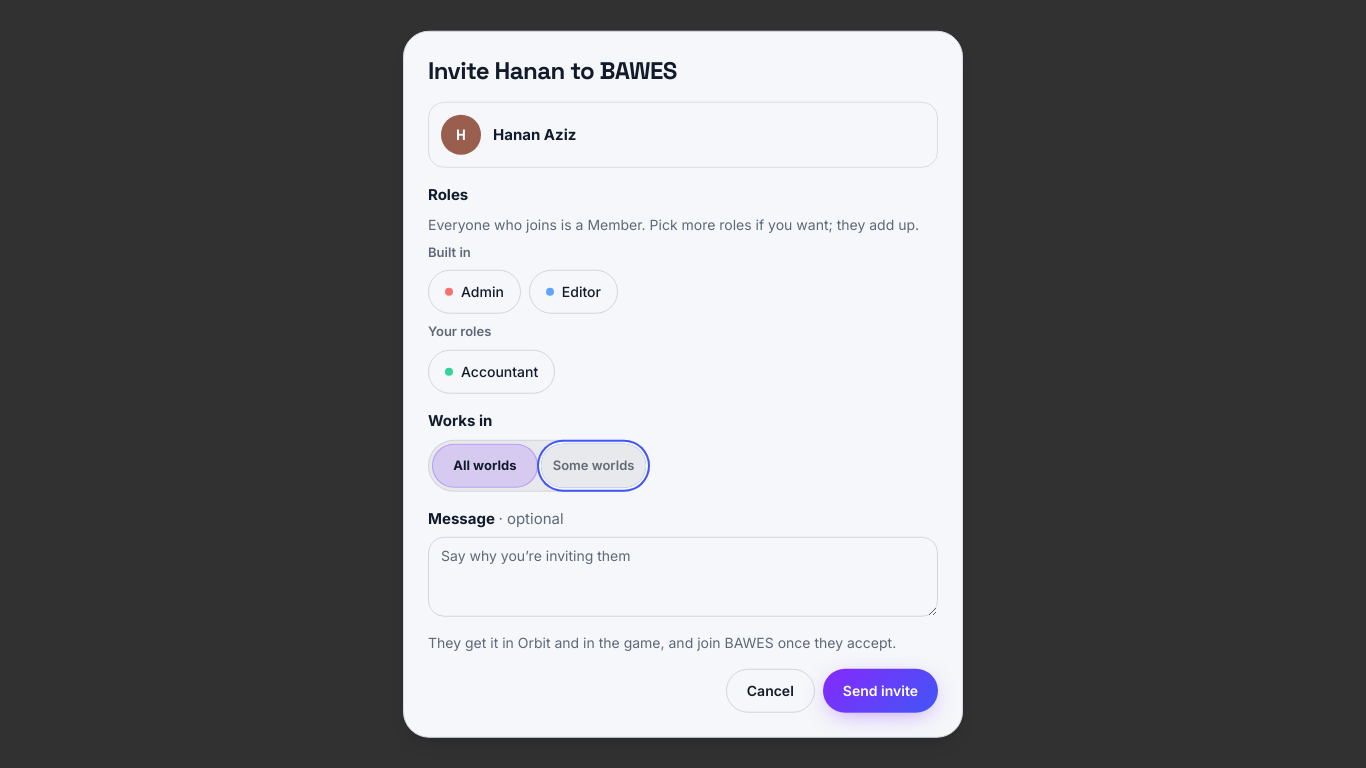
Test: says what went wrong and stays open when the invite is refused
This screenshot has width=1366, height=768.
Click the button "Send invite" at point(880, 690), box [823, 668, 938, 712]
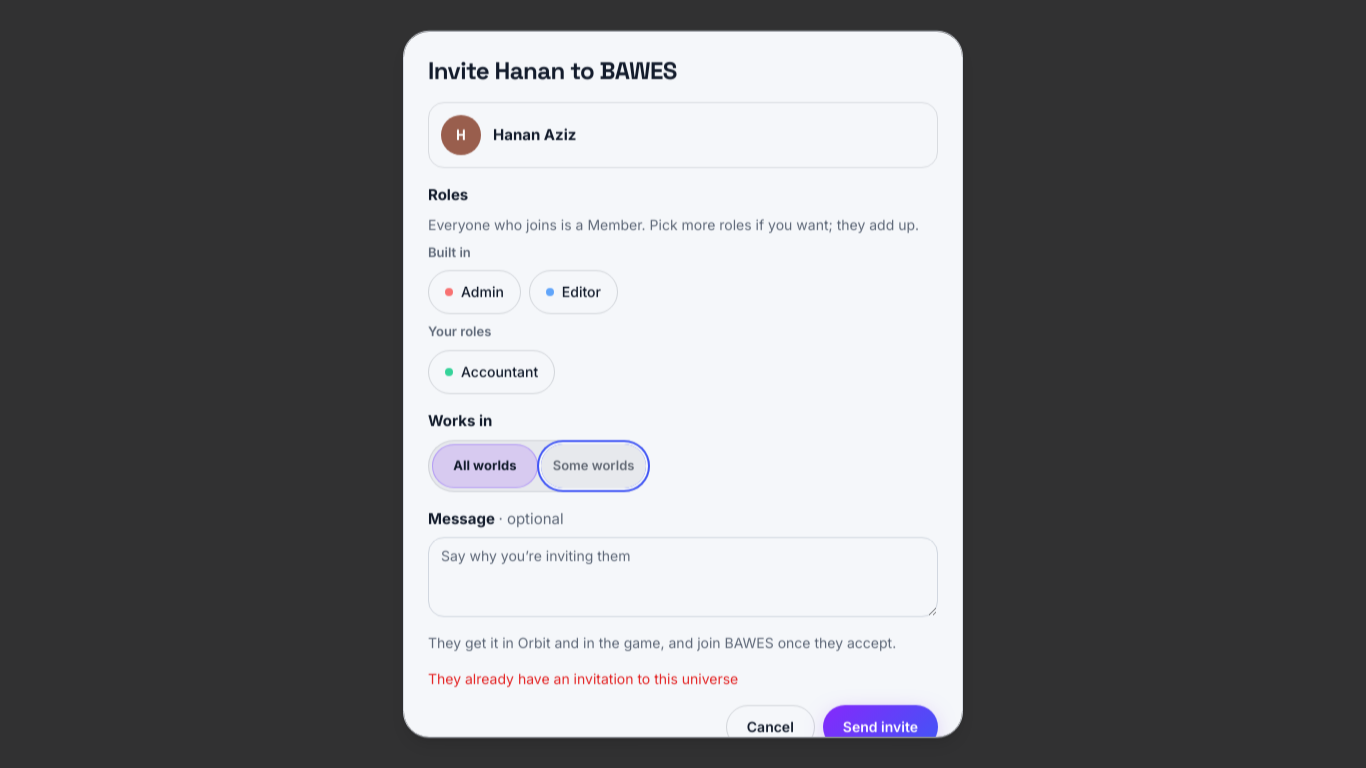
Check: the message reads "They already have an invitation to this universe", box [428, 669, 738, 686]
